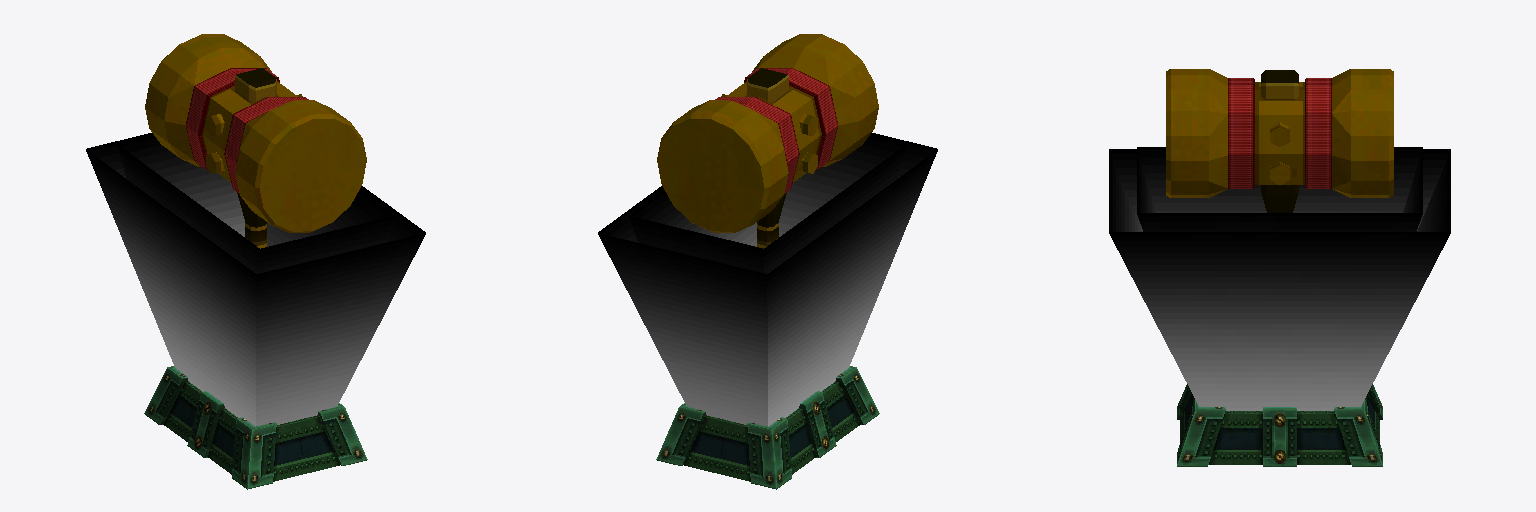
The picture shows the model from 3 angles: view 1: azimuth 30°, elevation 25°; view 2: azimuth 150°, elevation 25°; view 3: azimuth 270°, elevation 25°; orthographic projection.
Visible parts, largest first — view 1: polygon3, polygon2, polygon4, polygon0, polygon1; view 2: polygon3, polygon2, polygon4, polygon0, polygon1; view 3: polygon3, polygon2, polygon4, polygon0, polygon1.
Boxes of the visible parts, x1,y1,x2,y2 form: polygon3: [86, 133, 425, 426]; polygon2: [145, 34, 366, 232]; polygon4: [144, 366, 367, 489]; polygon0: [186, 68, 308, 192]; polygon1: [235, 68, 276, 248]; polygon3: [598, 133, 937, 426]; polygon2: [657, 34, 878, 232]; polygon4: [656, 366, 879, 489]; polygon0: [715, 68, 837, 192]; polygon1: [747, 68, 788, 248]; polygon3: [1109, 147, 1450, 410]; polygon2: [1166, 69, 1393, 197]; polygon4: [1177, 384, 1382, 466]; polygon0: [1228, 78, 1331, 188]; polygon1: [1261, 70, 1298, 212].
Size of the model in its own units: 9.41 by 19.22 by 16.46.
Materials: 4 (3 with a texture image).